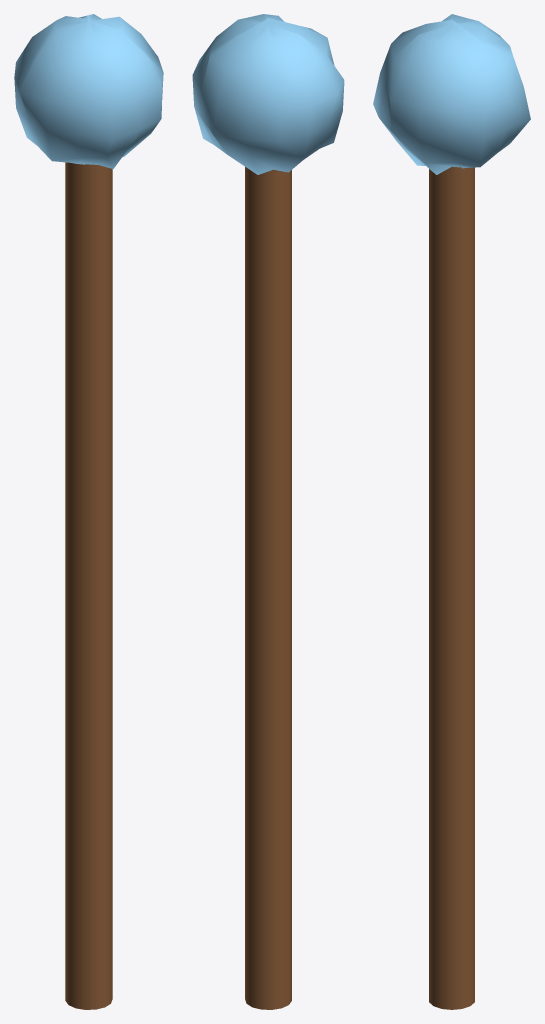
File: cajado.obj
3 views of the same model, side by side, from view 1: azimuth 30°, elevation 25°; view 2: azimuth 150°, elevation 25°; view 3: azimuth 270°, elevation 25° (orthographic).
Parts seen in each view (by area): view 1: haste, cristal; view 2: haste, cristal; view 3: haste, cristal.
Part boxes in pixels (x1,y1,x2,y2): haste: (65,162,112,1009); cristal: (14,14,163,168); haste: (245,167,291,1009); cristal: (192,14,344,174); haste: (429,166,474,1009); cristal: (373,14,530,174).
Bounding box in the file's own units: 0.2713 × 1.84 × 0.2688.
